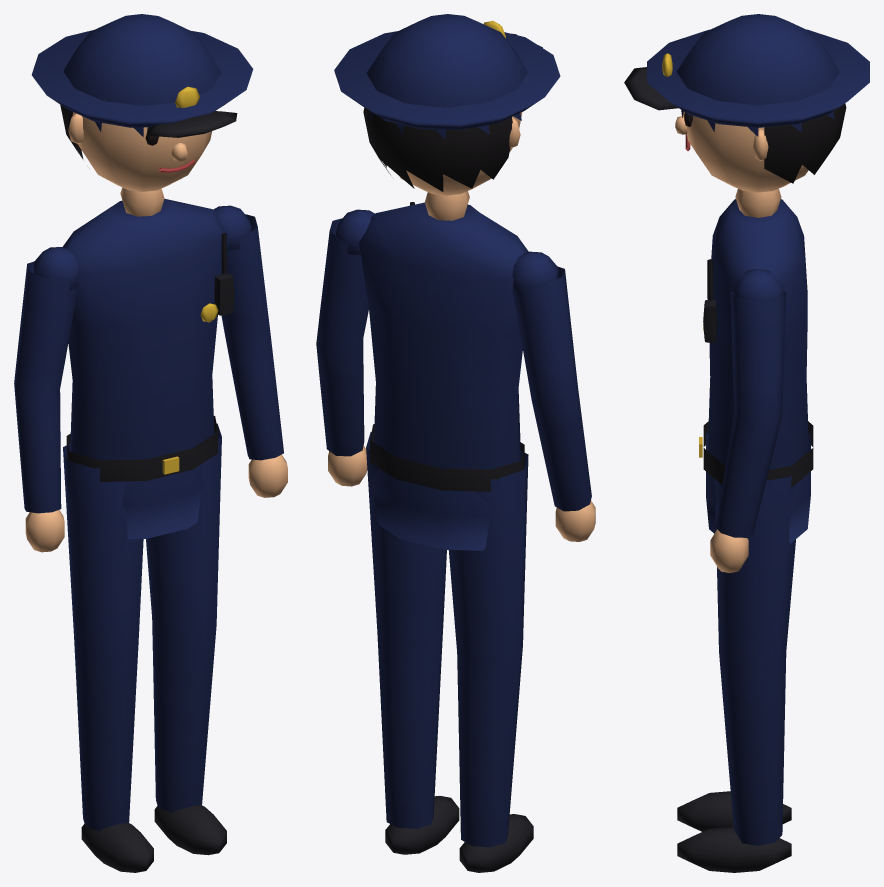
Rendered from Staff_Security.obj.
3 views of the same model, side by side, from view 1: azimuth 30°, elevation 25°; view 2: azimuth 150°, elevation 25°; view 3: azimuth 270°, elevation 25° (orthographic). The views are drawn at different scales.
Parts seen in each view (by area): view 1: Torso, Head, LegR, LegL, ArmR, ArmL; view 2: Torso, Head, LegR, LegL, ArmR, ArmL; view 3: Head, LegL, Torso, ArmL, LegR.
Boxes of the visible parts, x1,y1,x2,y2 form: Torso: (63,187,233,539); Head: (31,14,253,191); LegR: (63,443,153,872); LegL: (146,423,226,855); ArmR: (14,247,78,552); ArmL: (213,205,287,497); Torso: (359,191,528,550); Head: (334,14,560,195); LegR: (448,450,533,872); LegL: (366,432,459,854); ArmR: (512,251,595,541); ArmL: (316,209,374,486); Head: (624,14,869,192); LegL: (677,475,796,872); Torso: (699,188,813,543); ArmL: (710,269,786,572); LegR: (677,791,791,831).
Bounding box in the file's own units: 0.6486 × 1.97 × 0.5287.
Materials: 1 (1 with a texture image).
